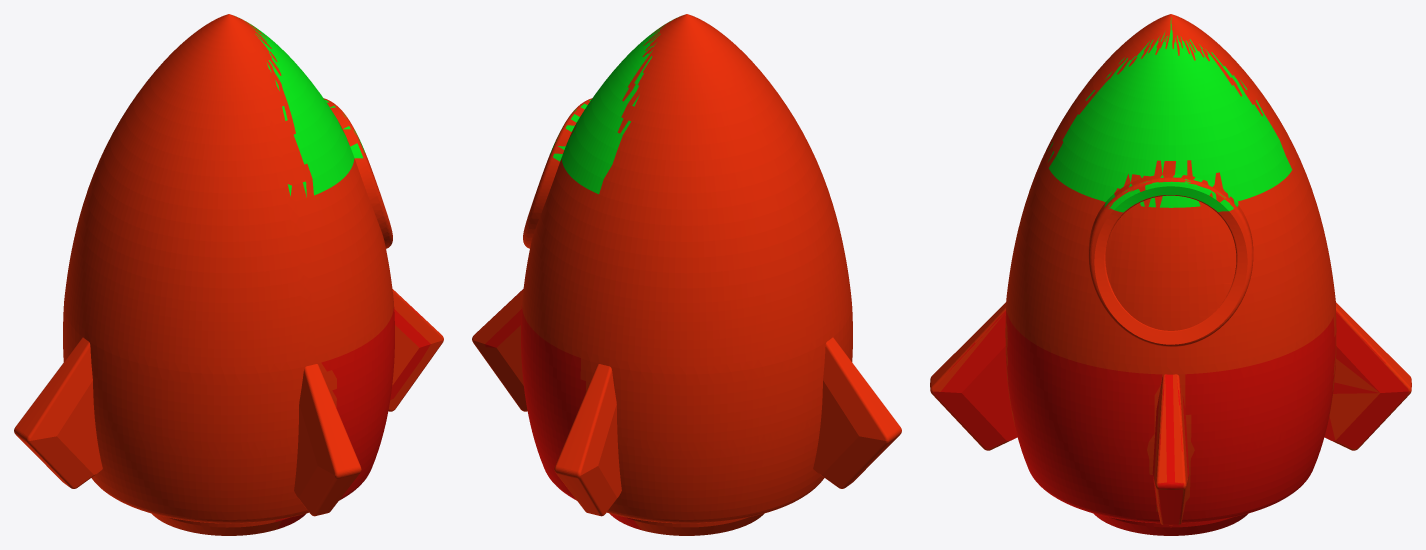
File: fucking_hell.glb
3 renders of one model, left to right at view 1: azimuth 30°, elevation 25°; view 2: azimuth 150°, elevation 25°; view 3: azimuth 270°, elevation 25°, orthographic.
Visible parts, largest first — view 1: exploreHacksRocket v1; view 2: exploreHacksRocket v1; view 3: exploreHacksRocket v1.
Boxes of the visible parts, left/top/right/bottom form: exploreHacksRocket v1: left=14, top=14, right=443, bottom=535; exploreHacksRocket v1: left=472, top=14, right=901, bottom=535; exploreHacksRocket v1: left=930, top=14, right=1411, bottom=535.
Size of the model in its own units: 7.74 by 8.62 by 7.74.
